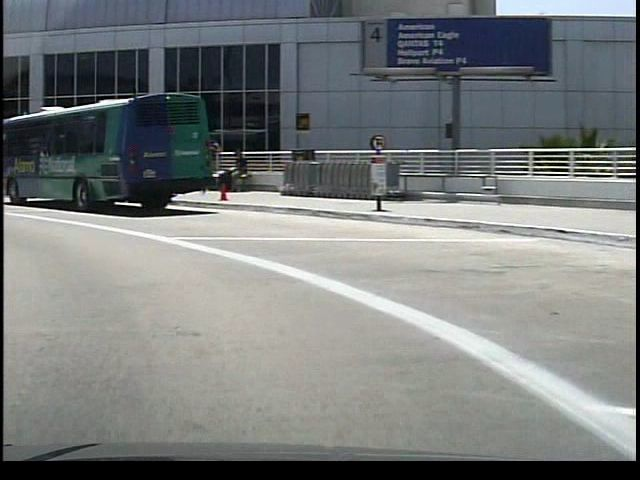person: (219, 145, 246, 193)
